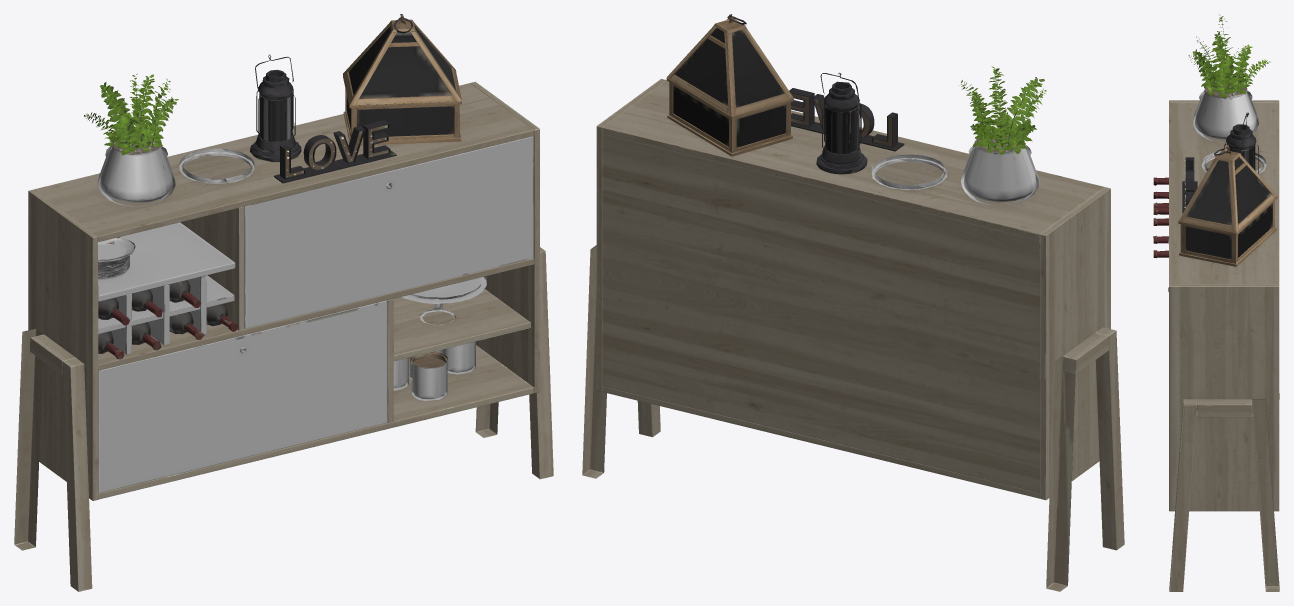
File: cabinet_hutch_buffet_06123244-8072-5b10-bca6-8e69e1991d18.glb
3 renders of one model, left to right at view 1: azimuth 30°, elevation 25°; view 2: azimuth 150°, elevation 25°; view 3: azimuth 270°, elevation 25°, orthographic. The views are drawn at different scales.
Visible parts, largest first — view 1: raw_model.obj; view 2: raw_model.obj; view 3: raw_model.obj.
Part boxes in pixels (<box>): raw_model.obj: <box>14,14,553,591</box>; raw_model.obj: <box>582,14,1124,591</box>; raw_model.obj: <box>1153,14,1279,591</box>.
Bounding box in the file's own units: 1.7 × 1.62 × 0.4575.
Materials: 1 (1 with a texture image).
